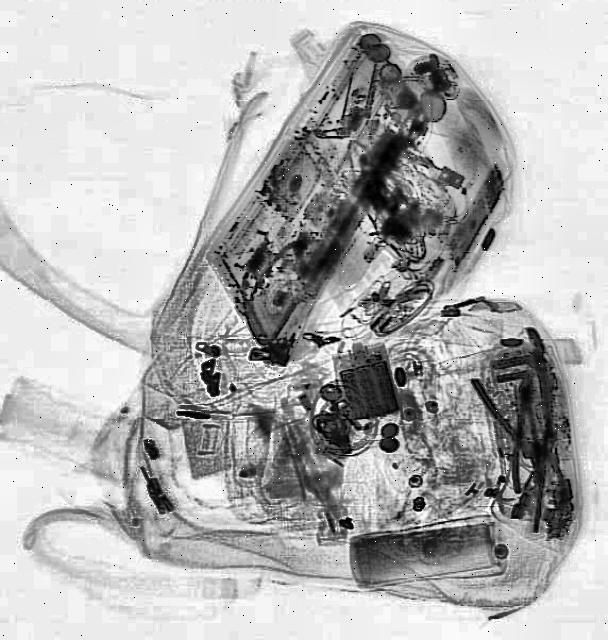Pliers: (467, 354, 587, 504), (509, 379, 545, 495)
